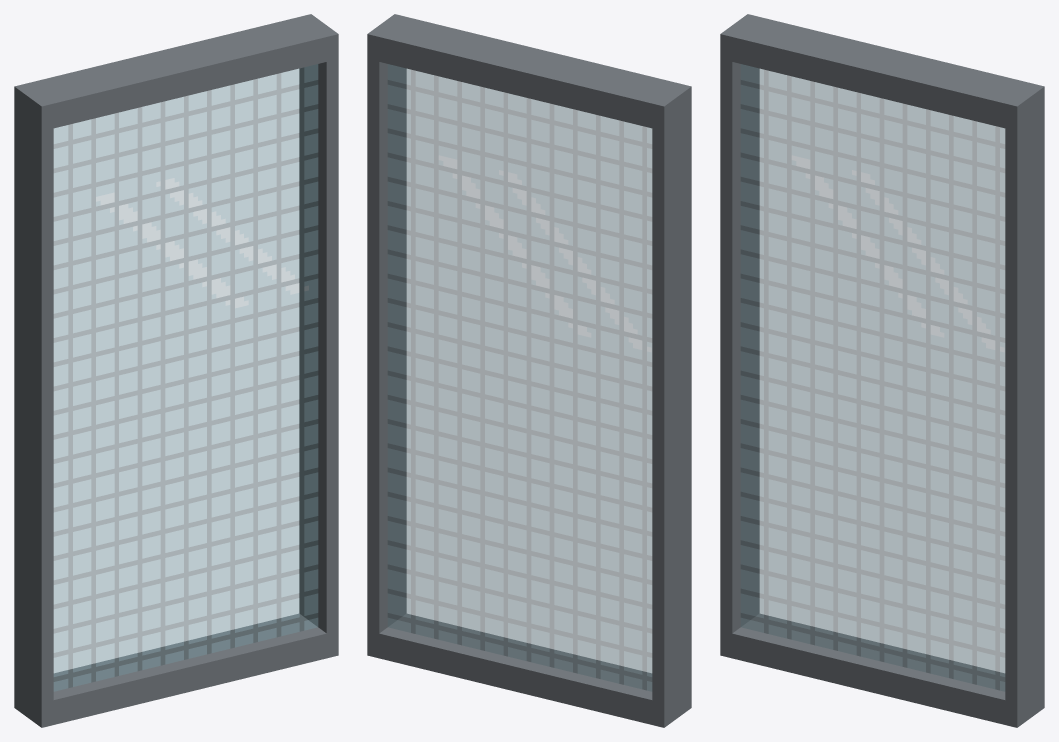
The model's file is t_reinforced_glass.glb.
3 views of the same model, side by side, from view 1: azimuth 30°, elevation 25°; view 2: azimuth 150°, elevation 25°; view 3: azimuth 330°, elevation 25° (orthographic).
Parts seen in each view (by area): view 1: block_pane, block_mullion-0.5, block_mullion0.46, block_head, block_sill; view 2: block_pane, block_mullion-0.5, block_mullion0.46, block_head, block_sill; view 3: block_pane, block_mullion0.46, block_mullion-0.5, block_head, block_sill.
Boxes of the visible parts, x1,y1,x2,y2 form: block_pane: [53, 64, 318, 691]; block_mullion-0.5: [14, 111, 53, 702]; block_mullion0.46: [299, 59, 338, 633]; block_head: [14, 14, 338, 131]; block_sill: [14, 613, 338, 727]; block_pane: [387, 64, 652, 691]; block_mullion-0.5: [652, 111, 691, 702]; block_mullion0.46: [367, 59, 406, 633]; block_head: [367, 14, 691, 131]; block_sill: [367, 613, 691, 727]; block_pane: [740, 64, 1005, 691]; block_mullion0.46: [1005, 111, 1044, 702]; block_mullion-0.5: [720, 59, 759, 633]; block_head: [720, 14, 1044, 131]; block_sill: [720, 613, 1044, 727].
Size of the model in its own units: 1 by 2 by 0.16.
2 materials, 2 textured.
